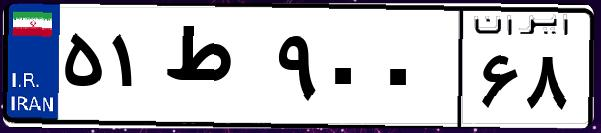0: (385, 28, 445, 110), (330, 28, 385, 110)
1: (110, 28, 158, 98)
5: (57, 26, 110, 100)
6: (475, 38, 525, 113)
8: (525, 38, 570, 115)
9: (270, 28, 330, 110)
ط: (158, 20, 270, 120)
